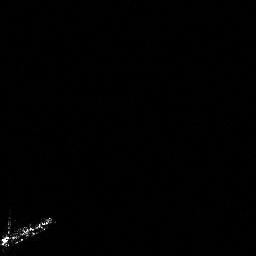ship: (1, 215, 52, 246)
